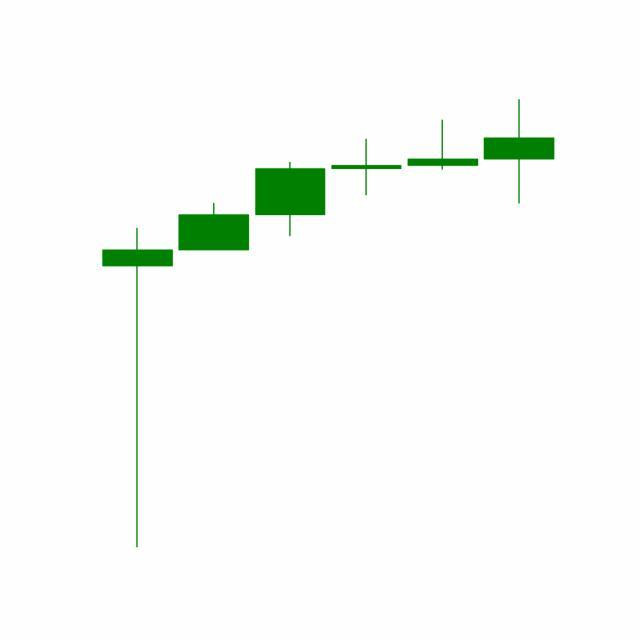Gravestone Doji: (404, 120, 482, 171)
